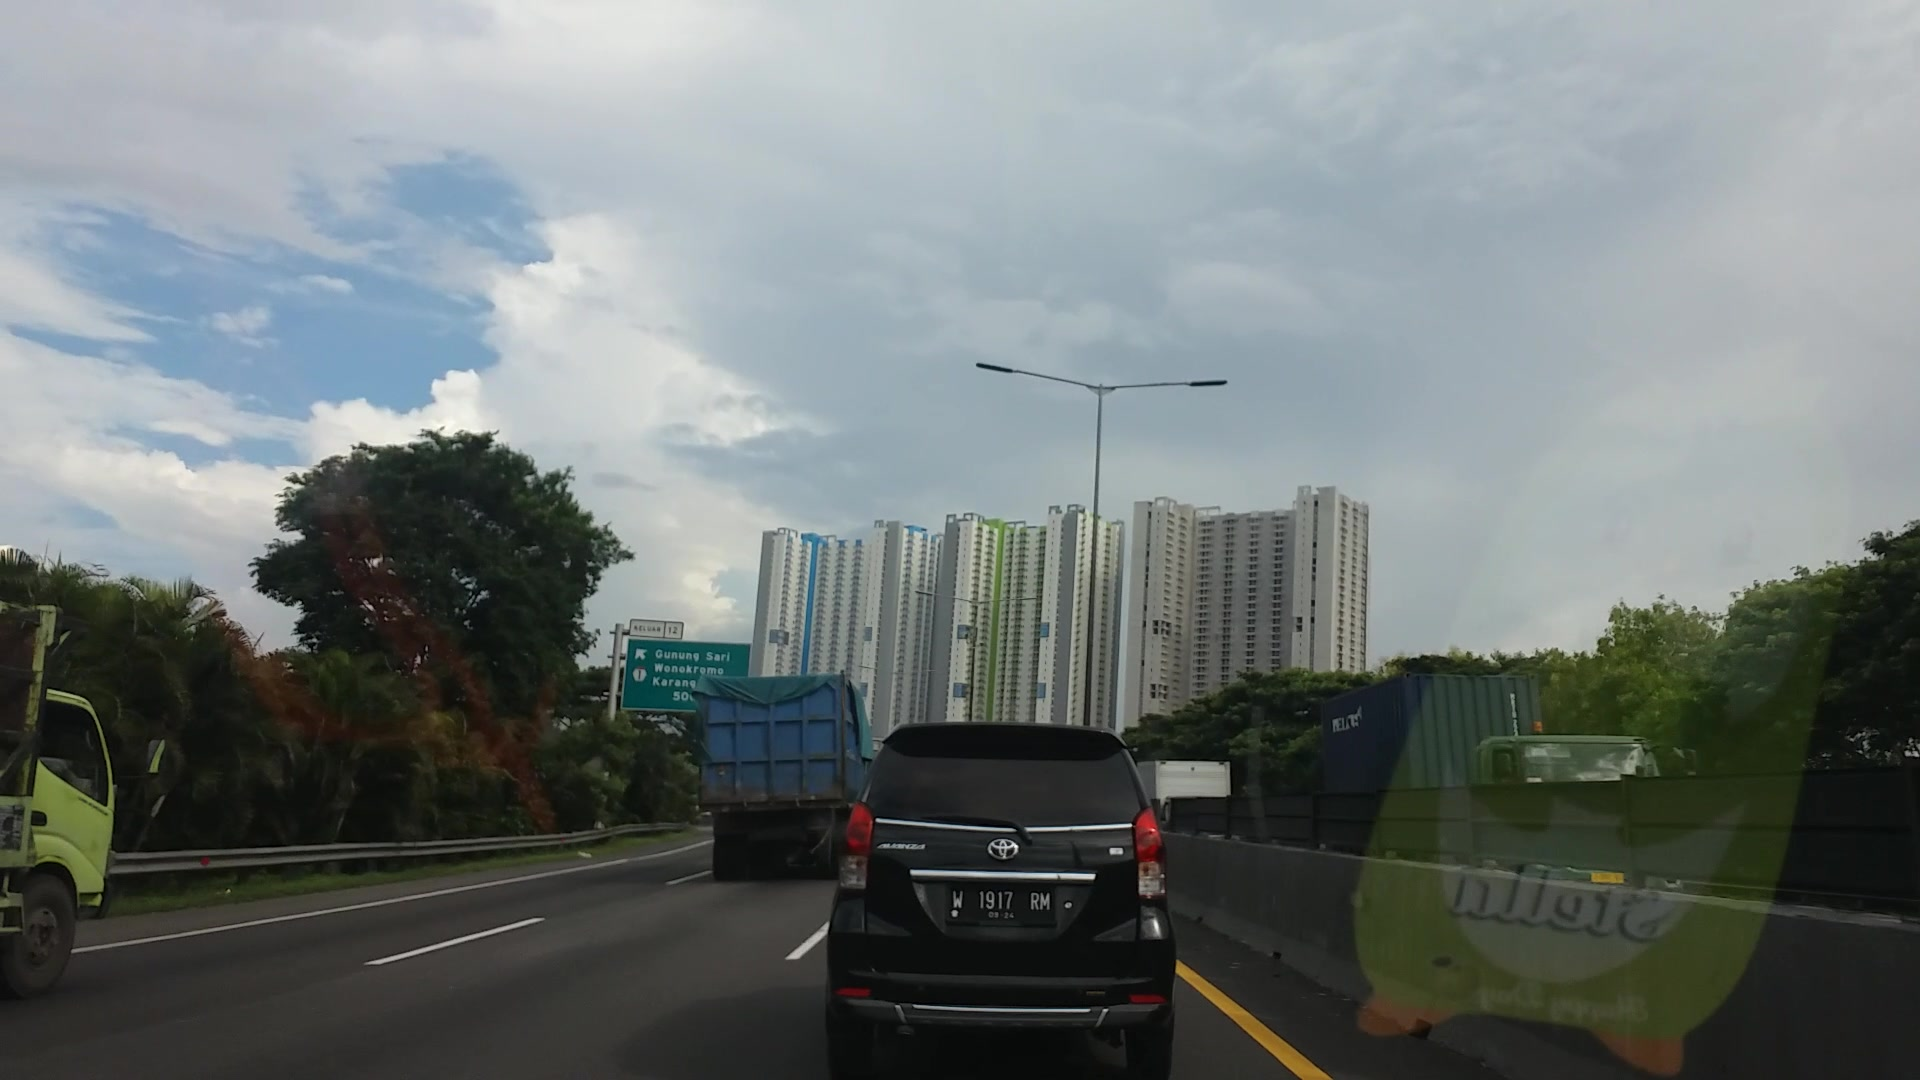plate_positive: (948, 882, 1054, 923)
